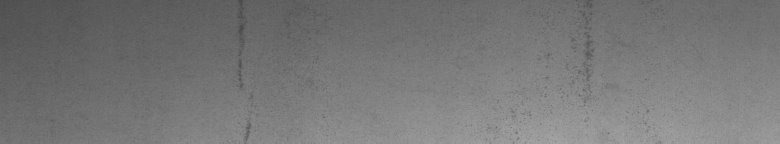ib: (510, 4, 655, 119)
